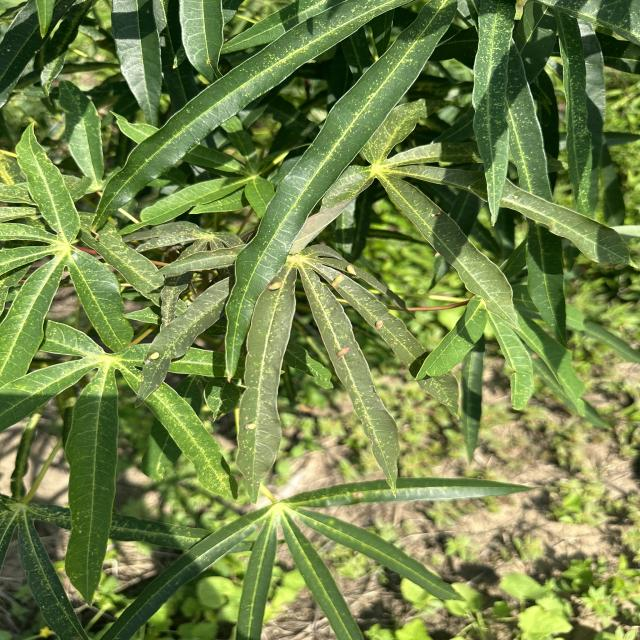Mosca: (349, 299, 394, 344), (319, 250, 364, 293), (330, 336, 363, 369), (258, 274, 290, 303), (139, 346, 169, 367), (231, 406, 253, 434)
